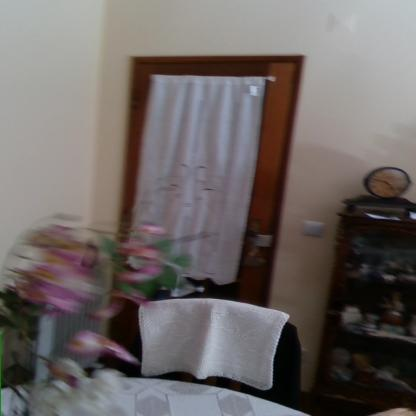closed: (110, 49, 315, 366)
